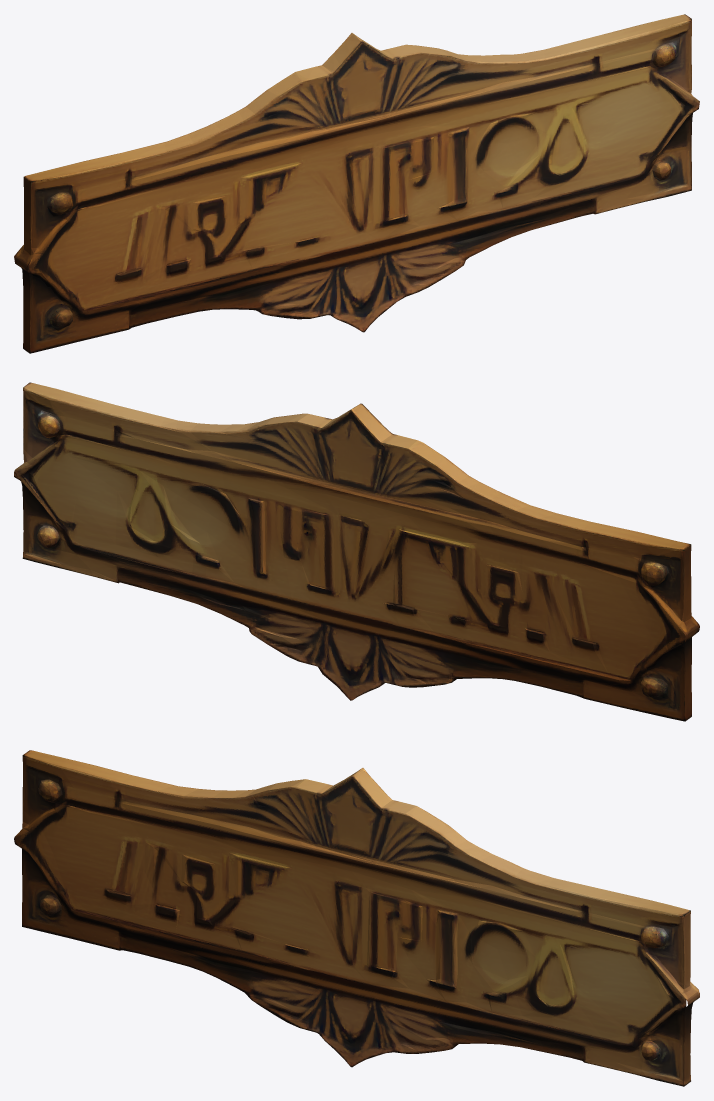
Rendered from wooden-rustic-nameplate-art-deco.jpeg.glb.
3 views of the same model, one above another, from view 1: azimuth 30°, elevation 25°; view 2: azimuth 150°, elevation 25°; view 3: azimuth 330°, elevation 25° (orthographic).
Parts seen in each view (by area): view 1: world; view 2: world; view 3: world.
Part boxes in pixels (box(x1,y1,x2,y2)): world: box(14, 14, 699, 353); world: box(14, 382, 699, 721); world: box(14, 750, 699, 1086).
Size of the model in its own units: 1 by 0.4141 by 0.0531.
1 material, 1 textured.
